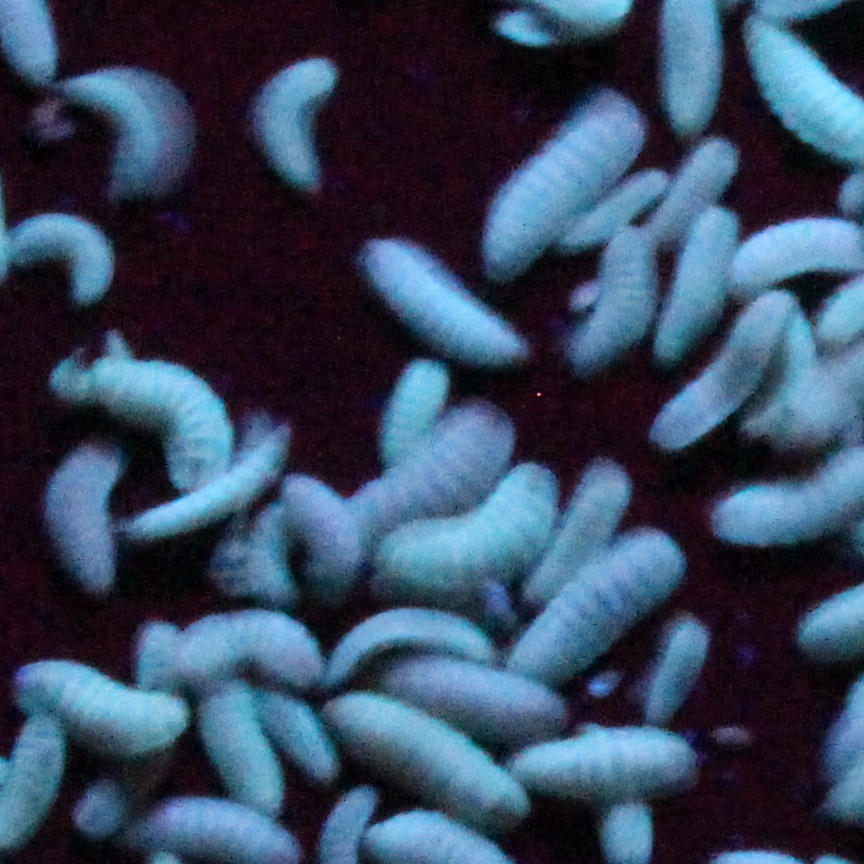larve: (458, 89, 646, 278), (306, 685, 534, 828), (647, 286, 800, 454), (61, 351, 234, 487), (374, 469, 568, 589), (363, 232, 526, 369), (4, 644, 189, 764), (518, 536, 680, 669), (61, 60, 200, 206), (178, 586, 336, 701), (238, 49, 338, 198), (38, 429, 129, 592), (561, 235, 667, 362), (509, 732, 698, 798), (3, 212, 126, 312), (195, 680, 286, 810), (535, 441, 633, 557), (270, 477, 368, 589), (634, 609, 717, 729), (264, 682, 334, 783)
